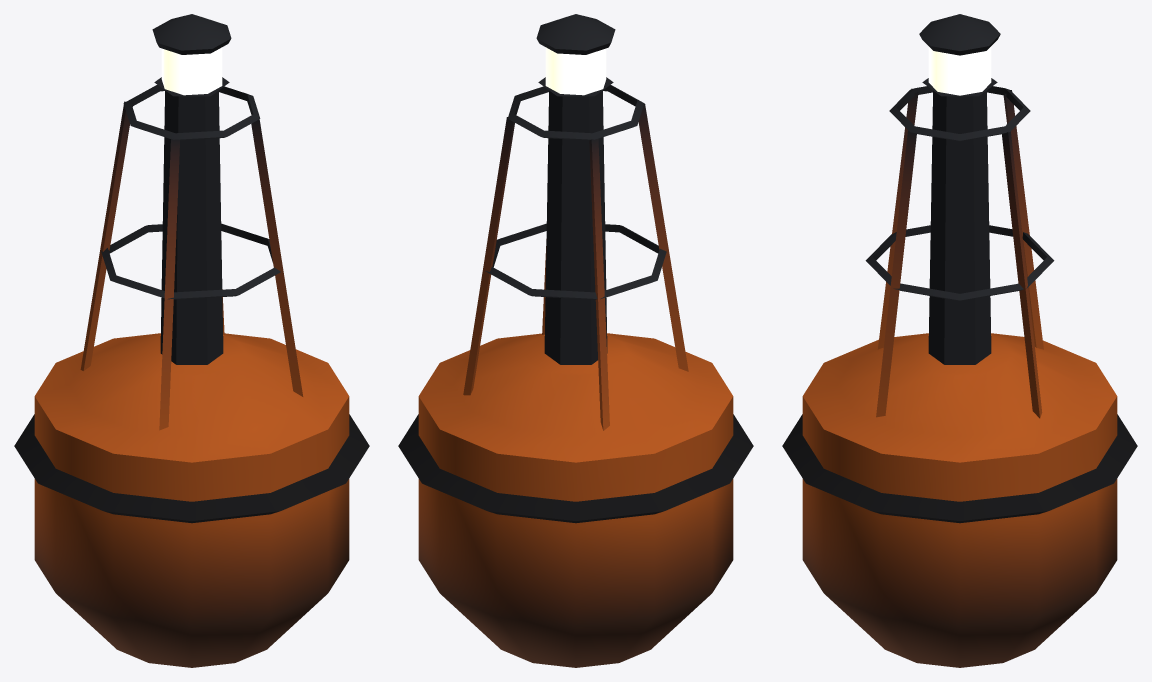
File: boya.glb
The picture shows the model from 3 angles, left to right: view 1: azimuth 30°, elevation 25°; view 2: azimuth 150°, elevation 25°; view 3: azimuth 270°, elevation 25°; orthographic projection.
Parts seen in each view (by area): view 1: boya.001, luz_boya; view 2: boya.001, luz_boya; view 3: boya.001, luz_boya.
Boxes of the visible parts, left/top/right/bottom form: boya.001: left=14, top=14, right=369, bottom=667; luz_boya: left=161, top=47, right=222, bottom=95; boya.001: left=398, top=14, right=753, bottom=667; luz_boya: left=545, top=47, right=606, bottom=95; boya.001: left=782, top=14, right=1137, bottom=667; luz_boya: left=928, top=46, right=991, bottom=95.
Size of the model in its own units: 2.26 by 4.33 by 2.26.
